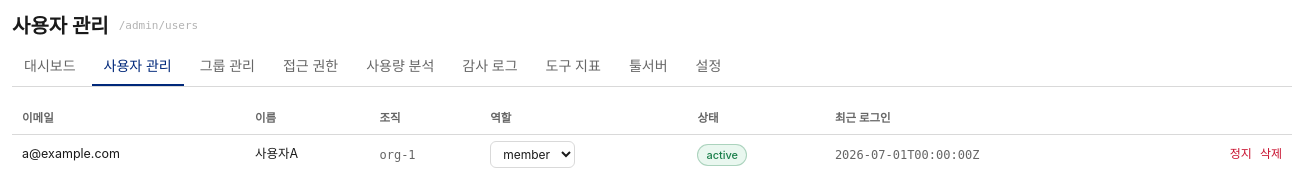
Test: AdminUsersManager › 정지 버튼으로 suspend 요청을 보낸다
Expected: the text "a@example.com" is shown, 12,135 -> 245,174
Click the button with aria-label "정지 (a@example.com)".
click(1241, 154)  # box 1230,146 -> 1252,162
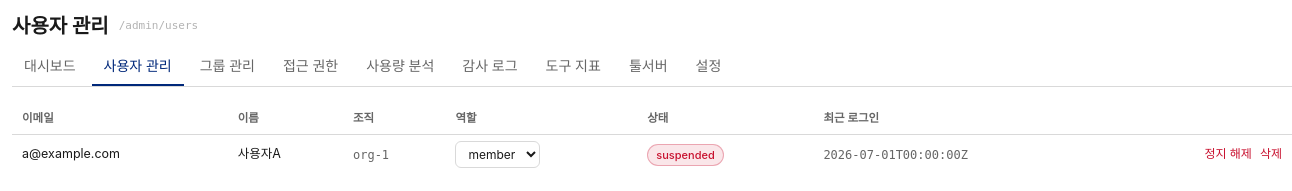
Expected: the text "suspended" is shown, 647,144 -> 724,166
